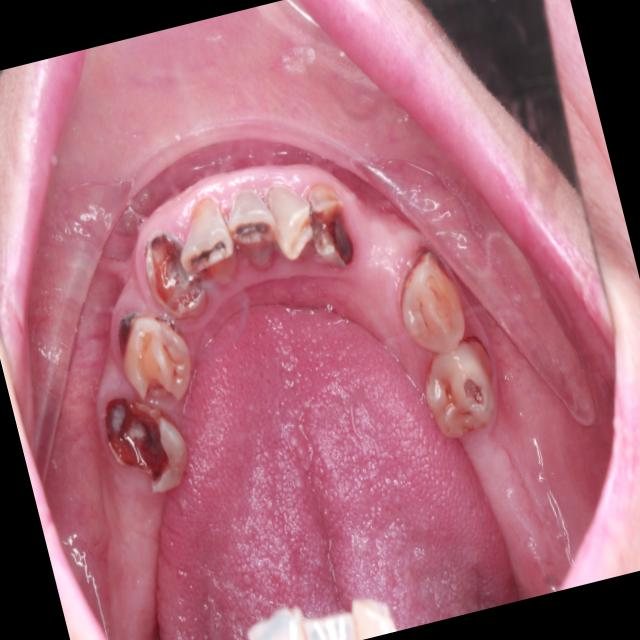tooth: (90, 375, 204, 516), (100, 286, 213, 422), (378, 230, 481, 369), (411, 332, 516, 454), (127, 210, 216, 325), (164, 191, 251, 294), (290, 162, 365, 280), (211, 173, 295, 275), (257, 168, 329, 278)
